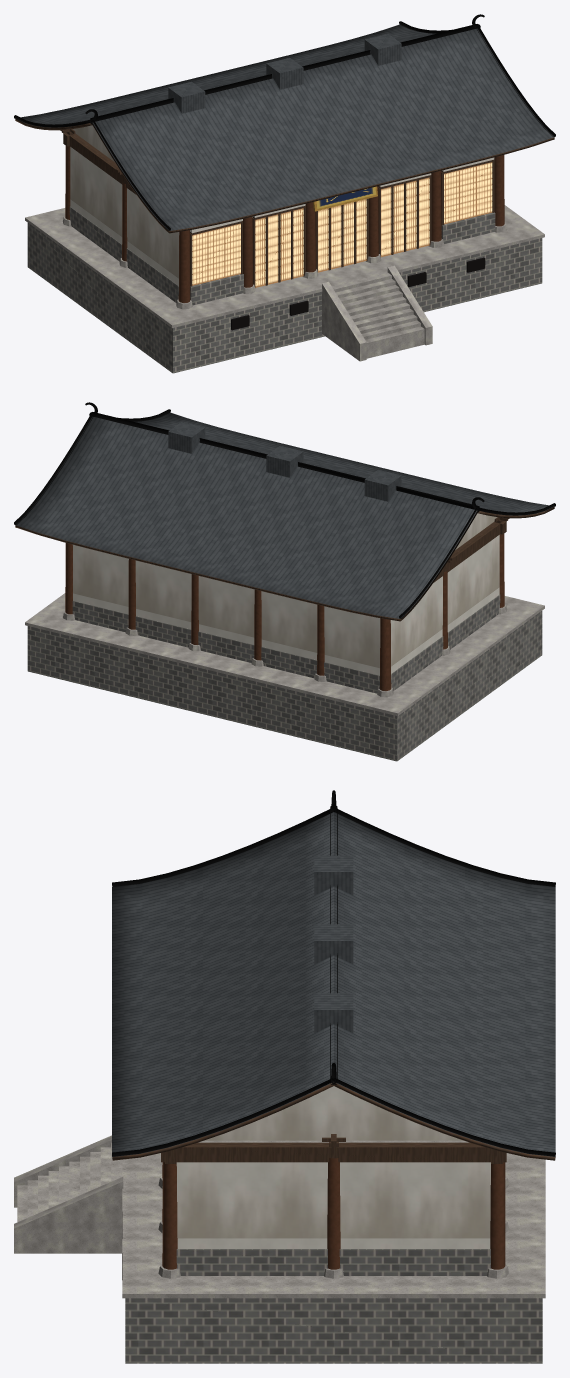
File: granary.glb
3 views of the same model, one above another, from view 1: azimuth 30°, elevation 25°; view 2: azimuth 150°, elevation 25°; view 3: azimuth 270°, elevation 25° (orthographic). The views are drawn at different scales.
Parts seen in each view (by area): view 1: GranaryRoof, GranaryPodiumBase, GranaryLattice, GranaryPodiumCap, GranaryWalls, GranaryColumns, GranaryStairsfront, GranaryDado, GranaryFrames, GranaryRoofRidge, GranaryCheeksfront, Vents (+5 smaller); view 2: GranaryRoof, GranaryPodiumBase, GranaryWalls, GranaryPodiumCap, GranaryDado, GranaryColumns, GranaryRoofRidge, Vents, GranaryBeams, GranaryColumnBases, GranaryGables; view 3: GranaryRoof, GranaryPodiumBase, GranaryWalls, GranaryPodiumCap, GranaryDado, GranaryCheeksfront, GranaryBeams, GranaryGables, GranaryRoofRidge, GranaryColumns, Vents, GranaryStairsfront (+1 smaller).
Boxes of the visible parts, x1=… form: GranaryRoof: x1=15, y1=24, x2=554, y2=233; GranaryPodiumBase: x1=27, y1=223, x2=542, y2=373; GranaryLattice: x1=192, y1=162, x2=492, y2=287; GranaryPodiumCap: x1=25, y1=205, x2=544, y2=328; GranaryWalls: x1=70, y1=147, x2=494, y2=285; GranaryColumns: x1=65, y1=146, x2=504, y2=302; GranaryStairsfront: x1=332, y1=273, x2=424, y2=358; GranaryDado: x1=69, y1=206, x2=495, y2=305; GranaryFrames: x1=190, y1=159, x2=494, y2=287; GranaryRoofRidge: x1=14, y1=14, x2=555, y2=230; GranaryCheeksfront: x1=322, y1=265, x2=432, y2=361; Vents: x1=168, y1=34, x2=401, y2=113; GranaryRoof: x1=15, y1=412, x2=554, y2=621; GranaryPodiumBase: x1=27, y1=611, x2=542, y2=761; GranaryWalls: x1=73, y1=535, x2=499, y2=675; GranaryPodiumCap: x1=25, y1=593, x2=544, y2=716; GranaryDado: x1=72, y1=594, x2=500, y2=693; GranaryColumns: x1=65, y1=534, x2=504, y2=690; GranaryRoofRidge: x1=14, y1=402, x2=555, y2=618; Vents: x1=168, y1=422, x2=401, y2=501; GranaryBeams: x1=433, y1=521, x2=506, y2=582; GranaryColumnBases: x1=63, y1=604, x2=506, y2=697; GranaryGables: x1=455, y1=513, x2=497, y2=549; GranaryRoof: x1=112, y1=812, x2=555, y2=1160; GranaryPodiumBase: x1=125, y1=1298, x2=542, y2=1363; GranaryWalls: x1=176, y1=1162, x2=490, y2=1248; GranaryPodiumCap: x1=122, y1=1140, x2=545, y2=1298; GranaryDado: x1=176, y1=1249, x2=490, y2=1275; GranaryCheeksfront: x1=14, y1=1135, x2=123, y2=1253; GranaryBeams: x1=161, y1=1142, x2=506, y2=1163; GranaryGables: x1=204, y1=1086, x2=463, y2=1140; GranaryRoofRidge: x1=112, y1=790, x2=555, y2=1156; GranaryColumns: x1=162, y1=1158, x2=505, y2=1269; Vents: x1=314, y1=855, x2=353, y2=1033; GranaryStairsfront: x1=17, y1=1142, x2=122, y2=1222.
Size of what is drawn, in the model's own units: 20.31 by 10.37 by 16.62.
12 materials, 11 textured.
